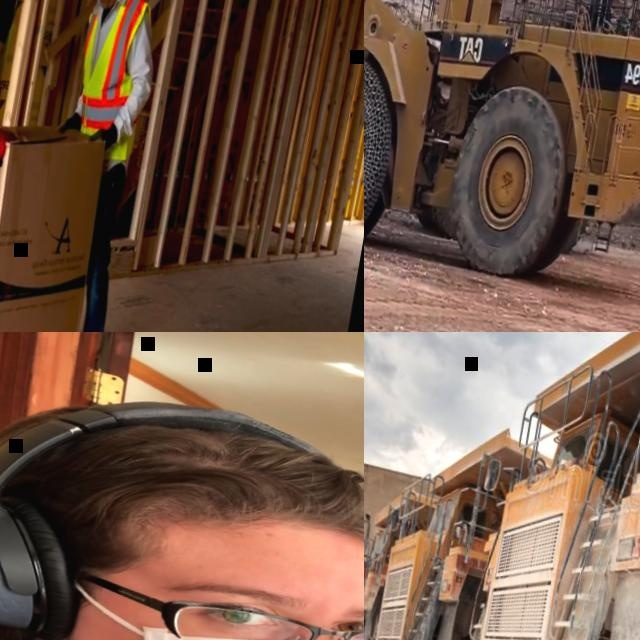Mask: (40, 594, 364, 640)
NO-Hardhat: (0, 366, 364, 573)
NO-Mask: (93, 0, 115, 8)
Person: (0, 343, 364, 640), (11, 0, 181, 332), (0, 0, 57, 332)
Safety Vest: (65, 0, 161, 161)
machinery: (364, 0, 640, 307), (434, 332, 640, 640), (364, 400, 563, 640), (364, 465, 438, 640)
